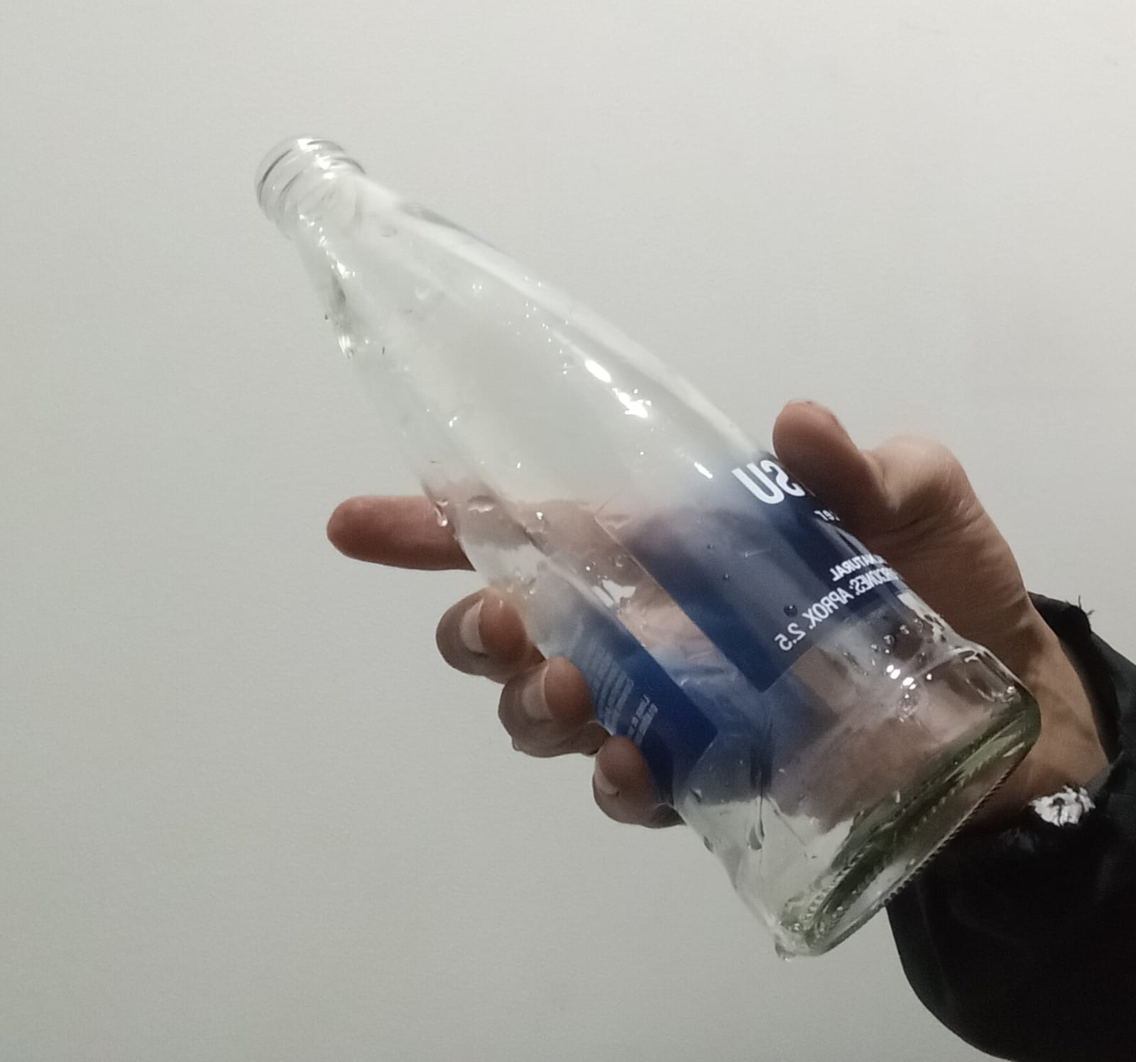Vidrio: (255, 130, 1041, 958)
